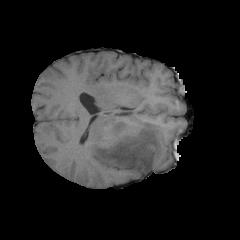glioma: (82, 116, 169, 177)
